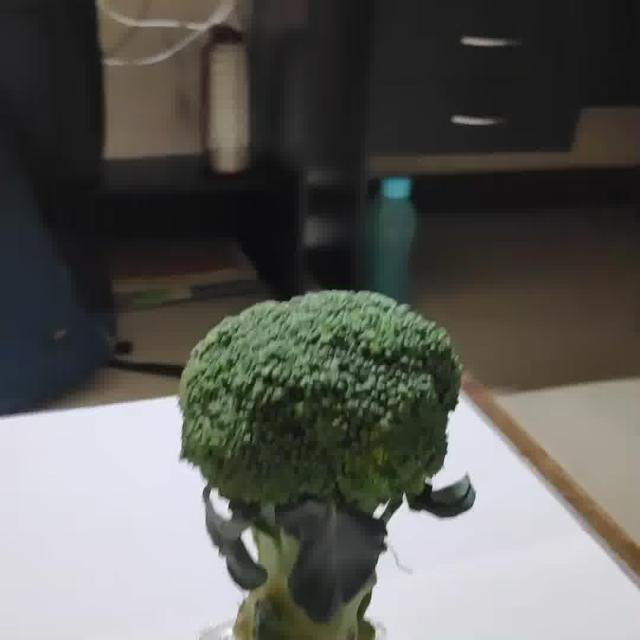Broccoli: (180, 291, 475, 639)
